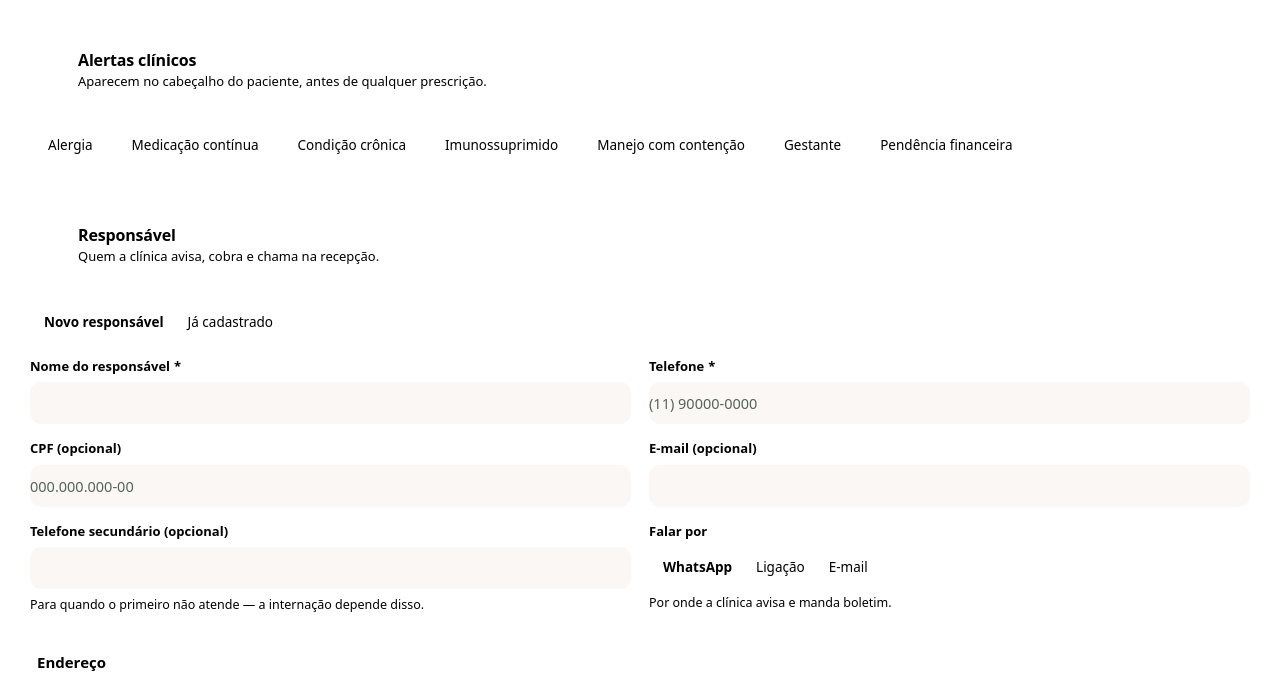
os dois caminhos do responsável › troca de caminho troca o que a tela pede
(page scrolled)
Click the radio button labelled "Já cadastrado". click: coordinates (230, 322)
box: [177,305,284,339]
(page scrolled)
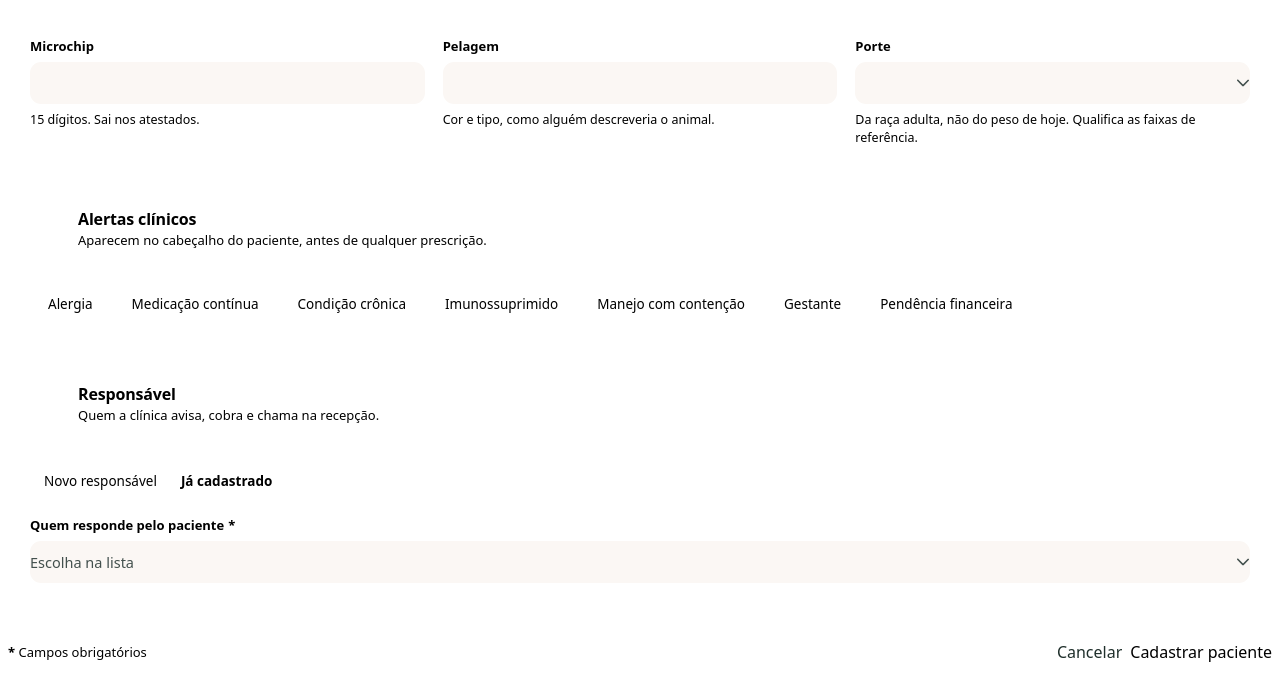
Expected: the text "Nome do responsável" is gone
Expected: the text "Quem responde pelo paciente" is shown, [30,517,224,534]
